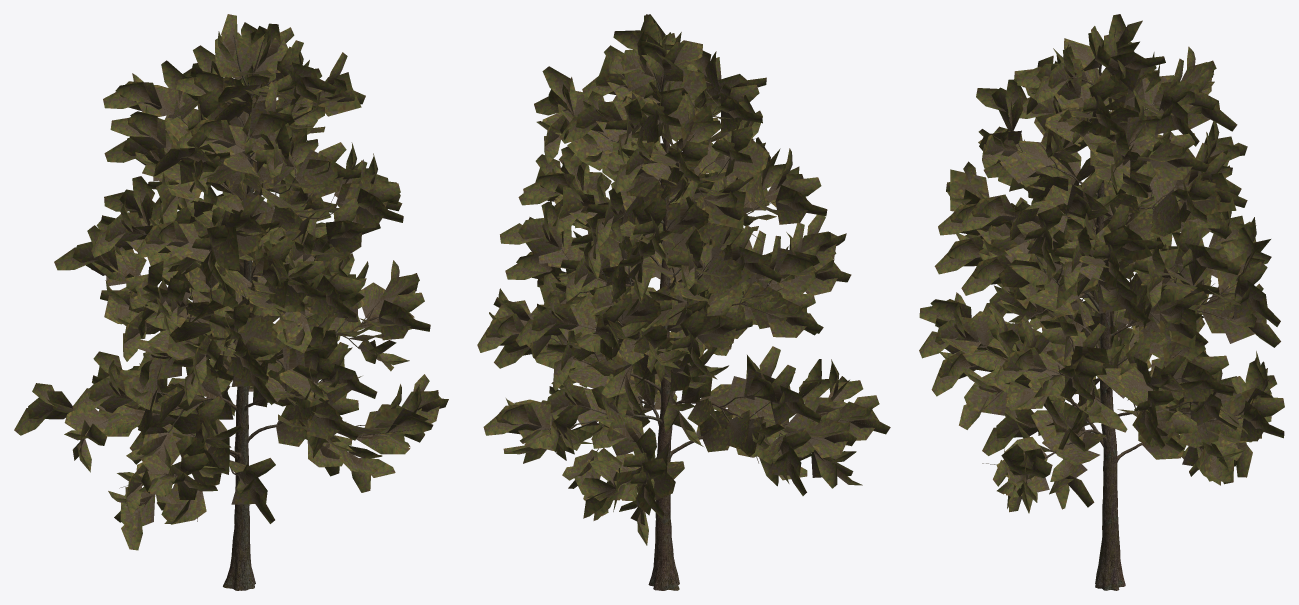
The model's file is SM_Alder_Spring_01a.fbx.
The picture shows the model from 3 angles, left to right: view 1: azimuth 30°, elevation 25°; view 2: azimuth 150°, elevation 25°; view 3: azimuth 270°, elevation 25°; orthographic projection.
Visible parts, largest first — view 1: SM_Alder_Spring_01a_LOD0; view 2: SM_Alder_Spring_01a_LOD0; view 3: SM_Alder_Spring_01a_LOD0.
Part boxes in pixels (x1,y1,x2,y2): SM_Alder_Spring_01a_LOD0: (14,14,448,590); SM_Alder_Spring_01a_LOD0: (477,14,890,590); SM_Alder_Spring_01a_LOD0: (919,14,1284,590).
Size of the model in its own units: 1786 by 1566 by 2689.
